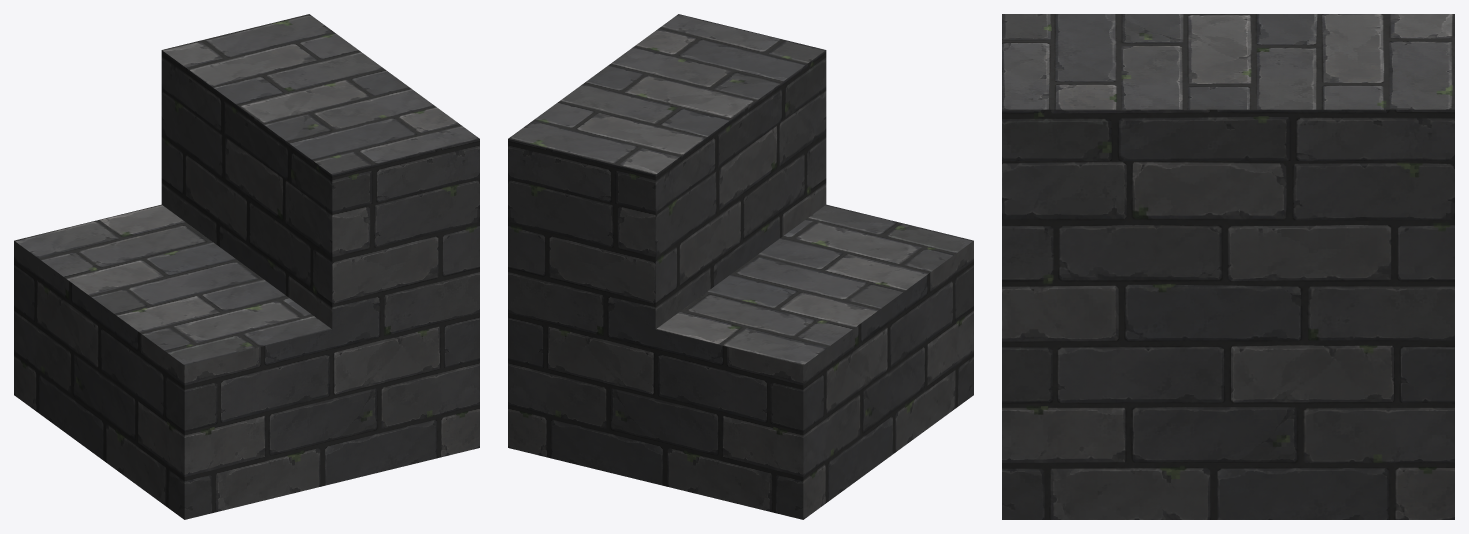
Rendered from MapStair.gltf.
The picture shows the model from 3 angles, left to right: view 1: azimuth 30°, elevation 25°; view 2: azimuth 150°, elevation 25°; view 3: azimuth 270°, elevation 25°; orthographic projection. The views are drawn at different scales.
Visible parts, largest first — view 1: MapStair; view 2: MapStair; view 3: MapStair.
Boxes of the visible parts, <box> form: MapStair: <box>14,14,479,519</box>; MapStair: <box>508,14,973,519</box>; MapStair: <box>1002,14,1454,519</box>.
Bounding box in the file's own units: 1 × 1 × 1.
Materials: 2 (2 with a texture image).
